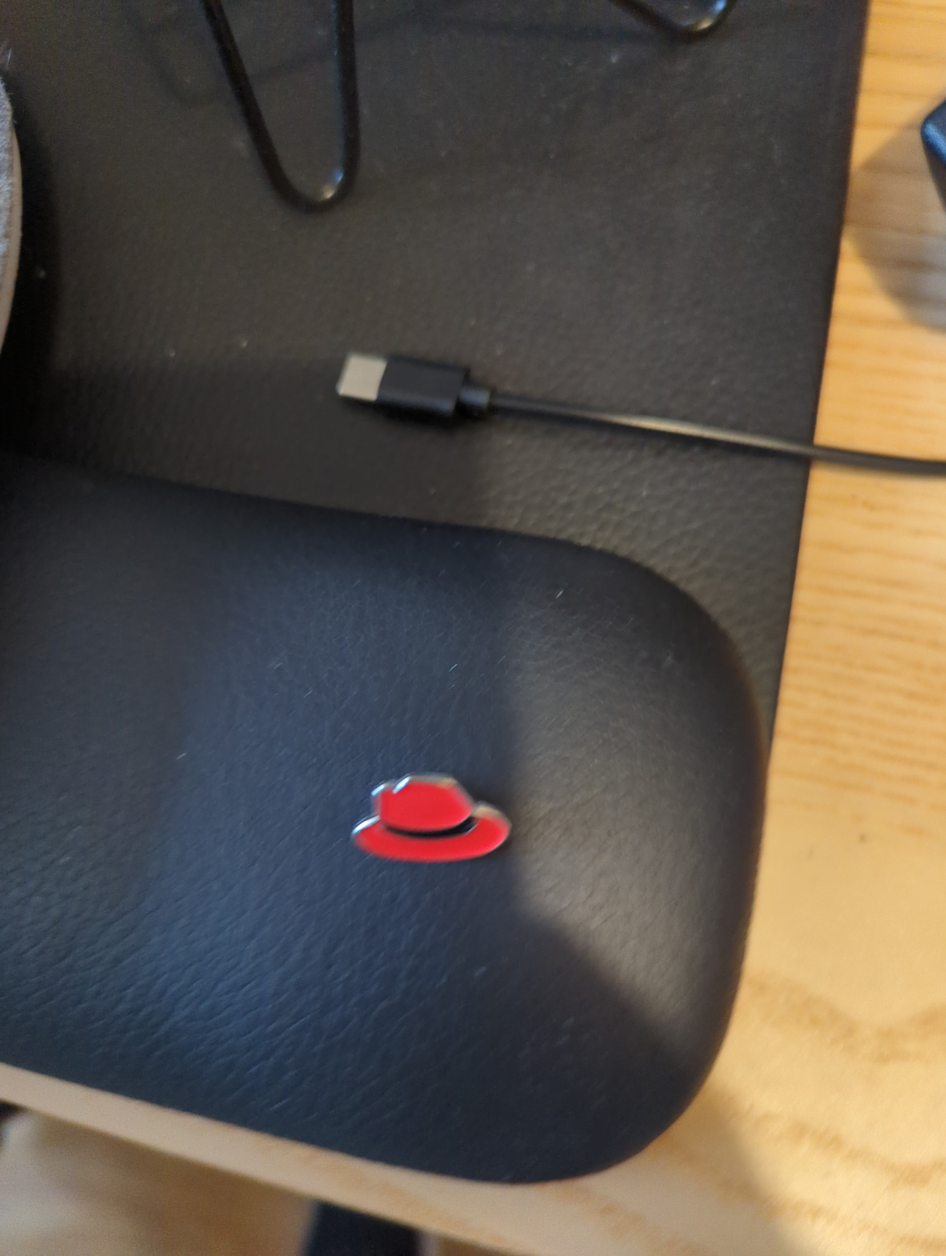Red-Hat: (282, 715, 599, 936)
